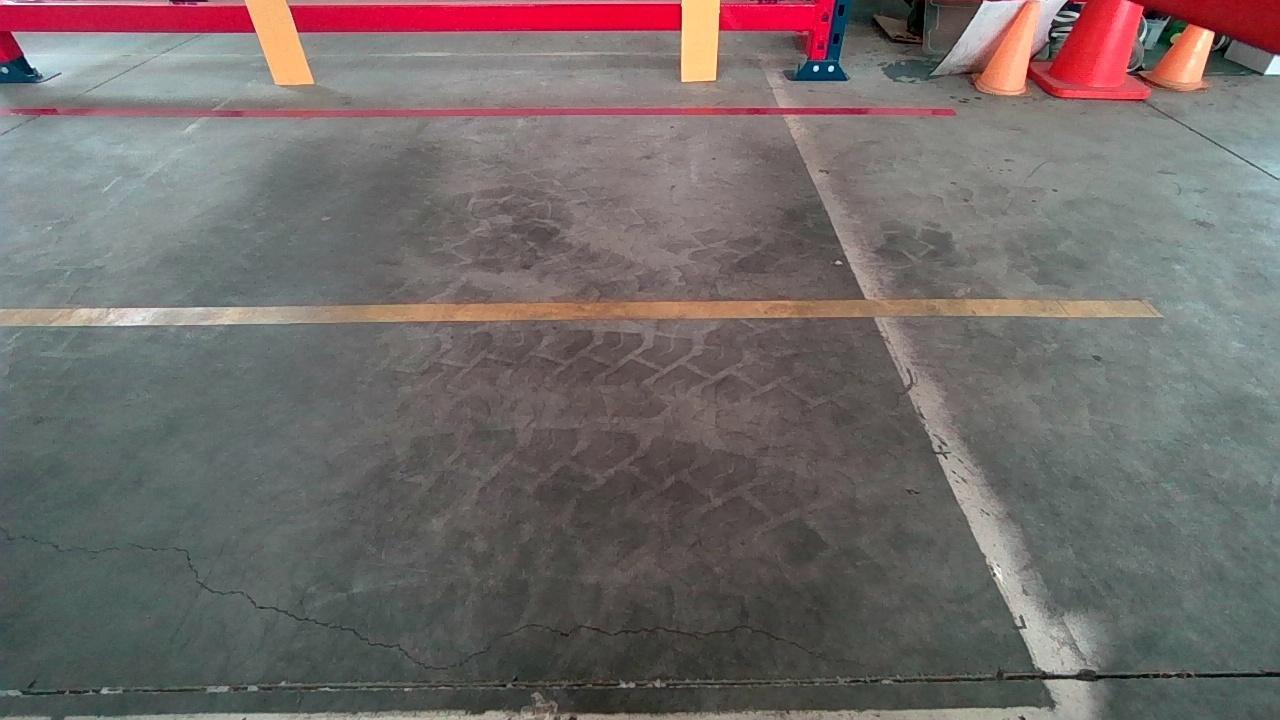h_rack: (0, 5, 809, 32)
orange_strip: (246, 0, 313, 81), (681, 0, 719, 77)
red_line: (0, 101, 960, 117)
yellow_line: (0, 298, 1156, 333)
